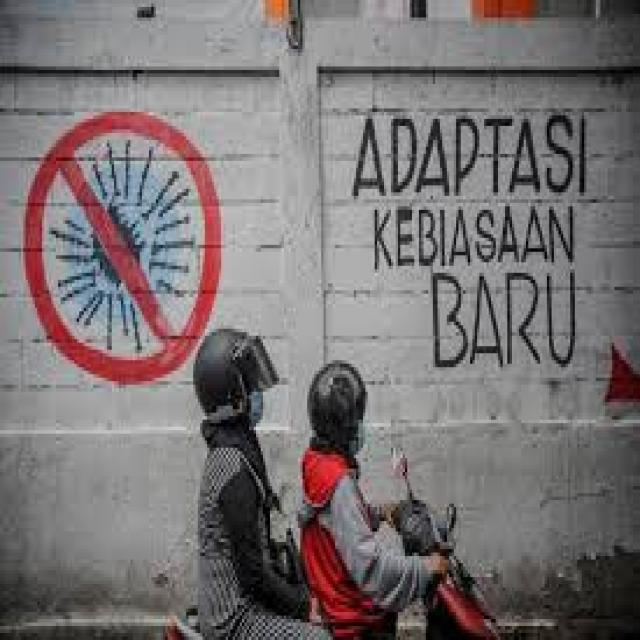-: (354, 114, 586, 369), (23, 107, 224, 383)
